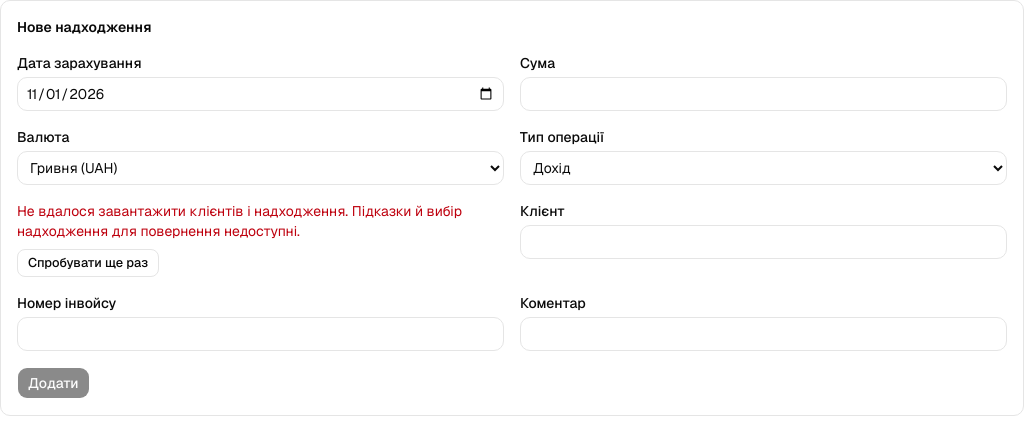
Test: TransactionForm side lists in uk › says the clients and receipts could not load, and loads them again on retry
expect the message shows "Не вдалося завантажити клієнтів і надходження": met, box [17, 202, 462, 240]
Click the button "Спробувати ще раз".
click(88, 263)  # box [17, 249, 159, 277]
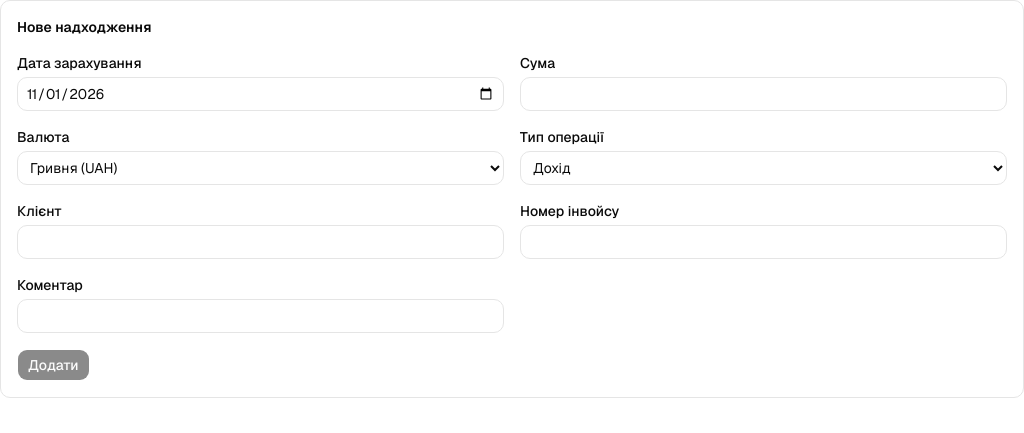
expect the message "Не вдалося завантажити клієнтів і надходження. Підказки й вибір надходження для" is gone: met
